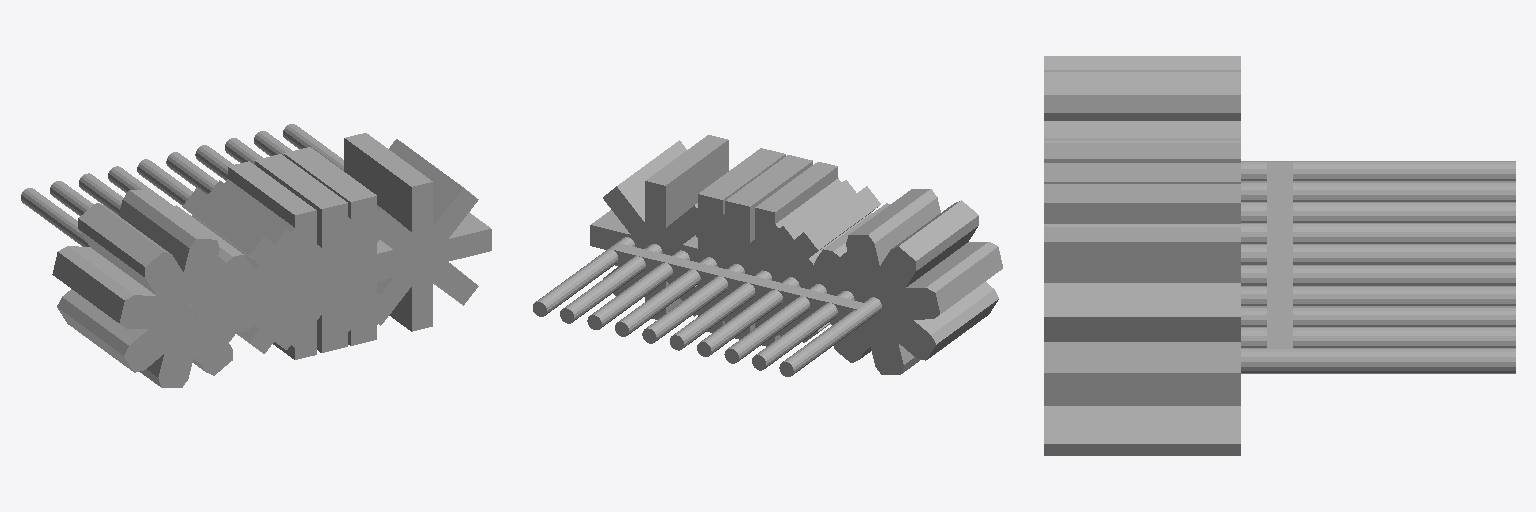
The robot description file, URDF, robot "gear_check":
<?xml version="1.0" encoding="utf-8"?>
<!-- =================================================================================== -->
<!-- |    This document was autogenerated by xacro from gear_check.xacro               | -->
<!-- |    EDITING THIS FILE BY HAND IS NOT RECOMMENDED                                 | -->
<!-- =================================================================================== -->
<robot name="gear_check">
  <material name="silver">
    <color rgba="0.700 0.700 0.700 1.000"/>
  </material>
  <gazebo>
    <plugin filename="libgazebo_ros_control.so" name="control"/>
  </gazebo>
  <gazebo reference="base_link">
    <material>Gazebo/Silver</material>
    <mu1>0.2</mu1>
    <mu2>0.2</mu2>
    <selfCollide>true</selfCollide>
    <gravity>true</gravity>
  </gazebo>
  <gazebo reference="geart_1">
    <material>Gazebo/Silver</material>
    <mu1>0.2</mu1>
    <mu2>0.2</mu2>
    <selfCollide>true</selfCollide>
  </gazebo>
  <gazebo reference="geartyok_1">
    <material>Gazebo/Silver</material>
    <mu1>0.2</mu1>
    <mu2>0.2</mu2>
    <selfCollide>true</selfCollide>
  </gazebo>
  <gazebo reference="geartyokk_1">
    <material>Gazebo/Silver</material>
    <mu1>0.2</mu1>
    <mu2>0.2</mu2>
    <selfCollide>true</selfCollide>
  </gazebo>
  <gazebo reference="gearnaname_1">
    <material>Gazebo/Silver</material>
    <mu1>0.2</mu1>
    <mu2>0.2</mu2>
    <selfCollide>true</selfCollide>
  </gazebo>
  <gazebo reference="gear_mainc_1">
    <material>Gazebo/Silver</material>
    <mu1>0.2</mu1>
    <mu2>0.2</mu2>
    <selfCollide>true</selfCollide>
  </gazebo>
  <gazebo reference="gear_maint_1">
    <material>Gazebo/Silver</material>
    <mu1>0.2</mu1>
    <mu2>0.2</mu2>
    <selfCollide>true</selfCollide>
  </gazebo>
  <link name="base_link">
    <inertial>
      <origin rpy="0 0 0" xyz="0.1694160000000001 6.013399387320873e-17 1.879187308537773e-18"/>
      <mass value="1.2099574875277086"/>
      <inertia ixx="0.012249" ixy="0.0" ixz="0.0" iyy="0.014034" iyz="0.0" izz="0.02622"/>
    </inertial>
    <visual>
      <origin rpy="0 0 0" xyz="0 0 0"/>
      <geometry>
        <mesh filename="package://gear_check_description/meshes/base_link.stl" scale="0.001 0.001 0.001"/>
      </geometry>
      <material name="silver"/>
    </visual>
    <collision>
      <origin rpy="0 0 0" xyz="0 0 0"/>
      <geometry>
        <mesh filename="package://gear_check_description/meshes/base_link.stl" scale="0.001 0.001 0.001"/>
      </geometry>
    </collision>
  </link>
  <link name="geart_1">
    <inertial>
      <origin rpy="0 0 0" xyz="4.1466829969749597e-14 0.07500000000000002 7.639765913131415e-17"/>
      <mass value="2.380949134081888"/>
      <inertia ixx="0.008464" ixy="0.0" ixz="0.0" iyy="0.007999" iyz="0.0" izz="0.008464"/>
    </inertial>
    <visual>
      <origin rpy="0 0 0" xyz="-0.150592 0.18 -0.0"/>
      <geometry>
        <mesh filename="package://gear_check_description/meshes/geart_1.stl" scale="0.001 0.001 0.001"/>
      </geometry>
      <material name="silver"/>
    </visual>
    <collision>
      <origin rpy="0 0 0" xyz="-0.150592 0.18 -0.0"/>
      <geometry>
        <mesh filename="package://gear_check_description/meshes/geart_1.stl" scale="0.001 0.001 0.001"/>
      </geometry>
    </collision>
  </link>
  <link name="geartyok_1">
    <inertial>
      <origin rpy="0 0 0" xyz="3.58046925441613e-14 0.07499999999999997 0.0"/>
      <mass value="2.754530739710083"/>
      <inertia ixx="0.009962" ixy="0.0" ixz="0.0" iyy="0.009594" iyz="0.0" izz="0.009962"/>
    </inertial>
    <visual>
      <origin rpy="0 0 0" xyz="-0.18824 0.18 -0.0"/>
      <geometry>
        <mesh filename="package://gear_check_description/meshes/geartyok_1.stl" scale="0.001 0.001 0.001"/>
      </geometry>
      <material name="silver"/>
    </visual>
    <collision>
      <origin rpy="0 0 0" xyz="-0.18824 0.18 -0.0"/>
      <geometry>
        <mesh filename="package://gear_check_description/meshes/geartyok_1.stl" scale="0.001 0.001 0.001"/>
      </geometry>
    </collision>
  </link>
  <link name="geartyokk_1">
    <inertial>
      <origin rpy="0 0 0" xyz="5.162537064506978e-15 0.07500000000000001 7.528019646738304e-17"/>
      <mass value="2.416292051434772"/>
      <inertia ixx="0.008531" ixy="-0.0" ixz="0.0" iyy="0.008001" iyz="0.0" izz="0.008531"/>
    </inertial>
    <visual>
      <origin rpy="0 0 0" xyz="-0.301184 0.18 -0.0"/>
      <geometry>
        <mesh filename="package://gear_check_description/meshes/geartyokk_1.stl" scale="0.001 0.001 0.001"/>
      </geometry>
      <material name="silver"/>
    </visual>
    <collision>
      <origin rpy="0 0 0" xyz="-0.301184 0.18 -0.0"/>
      <geometry>
        <mesh filename="package://gear_check_description/meshes/geartyokk_1.stl" scale="0.001 0.001 0.001"/>
      </geometry>
    </collision>
  </link>
  <link name="gearnaname_1">
    <inertial>
      <origin rpy="0 0 0" xyz="7.493221873409896e-05 0.075 4.462749146274174e-05"/>
      <mass value="3.022850628302408"/>
      <inertia ixx="0.011052" ixy="0.0" ixz="-2.7e-05" iyy="0.010793" iyz="-0.0" izz="0.011077"/>
    </inertial>
    <visual>
      <origin rpy="0 0 0" xyz="-0.0 0.18 -0.0"/>
      <geometry>
        <mesh filename="package://gear_check_description/meshes/gearnaname_1.stl" scale="0.001 0.001 0.001"/>
      </geometry>
      <material name="silver"/>
    </visual>
    <collision>
      <origin rpy="0 0 0" xyz="-0.0 0.18 -0.0"/>
      <geometry>
        <mesh filename="package://gear_check_description/meshes/gearnaname_1.stl" scale="0.001 0.001 0.001"/>
      </geometry>
    </collision>
  </link>
  <link name="gear_mainc_1">
    <inertial>
      <origin rpy="0 0 0" xyz="-1.3877787807814457e-17 0.07499999999999997 3.4007440022514314e-17"/>
      <mass value="1.6046395162425733"/>
      <inertia ixx="0.005485" ixy="-0.0" ixz="-0.0" iyy="0.004952" iyz="-0.0" izz="0.005485"/>
    </inertial>
    <visual>
      <origin rpy="0 0 0" xyz="-0.075296 0.18 -0.0"/>
      <geometry>
        <mesh filename="package://gear_check_description/meshes/gear_mainc_1.stl" scale="0.001 0.001 0.001"/>
      </geometry>
      <material name="silver"/>
    </visual>
    <collision>
      <origin rpy="0 0 0" xyz="-0.075296 0.18 -0.0"/>
      <geometry>
        <mesh filename="package://gear_check_description/meshes/gear_mainc_1.stl" scale="0.001 0.001 0.001"/>
      </geometry>
    </collision>
  </link>
  <link name="gear_maint_1">
    <inertial>
      <origin rpy="0 0 0" xyz="6.147859998861804e-14 0.075 1.1335813340838095e-17"/>
      <mass value="1.604639516242575"/>
      <inertia ixx="0.005485" ixy="0.0" ixz="0.0" iyy="0.004952" iyz="-0.0" izz="0.005485"/>
    </inertial>
    <visual>
      <origin rpy="0 0 0" xyz="-0.225888 0.18 -0.0"/>
      <geometry>
        <mesh filename="package://gear_check_description/meshes/gear_maint_1.stl" scale="0.001 0.001 0.001"/>
      </geometry>
      <material name="silver"/>
    </visual>
    <collision>
      <origin rpy="0 0 0" xyz="-0.225888 0.18 -0.0"/>
      <geometry>
        <mesh filename="package://gear_check_description/meshes/gear_maint_1.stl" scale="0.001 0.001 0.001"/>
      </geometry>
    </collision>
  </link>
  <joint name="2" type="fixed">
    <origin rpy="0 0 0" xyz="0.150592 -0.18 0.0"/>
    <parent link="base_link"/>
    <child link="geart_1"/>
  </joint>
  <joint name="3" type="fixed">
    <origin rpy="0 0 0" xyz="0.18824 -0.18 0.0"/>
    <parent link="base_link"/>
    <child link="geartyok_1"/>
  </joint>
  <joint name="4" type="fixed">
    <origin rpy="0 0 0" xyz="0.301184 -0.18 0.0"/>
    <parent link="base_link"/>
    <child link="geartyokk_1"/>
  </joint>
  <joint name="1" type="fixed">
    <origin rpy="0 0 0" xyz="0.0 -0.18 0.0"/>
    <parent link="base_link"/>
    <child link="gearnaname_1"/>
  </joint>
  <joint name="5" type="fixed">
    <origin rpy="0 0 0" xyz="0.075296 -0.18 0.0"/>
    <parent link="base_link"/>
    <child link="gear_mainc_1"/>
  </joint>
  <joint name="6" type="fixed">
    <origin rpy="0 0 0" xyz="0.225888 -0.18 0.0"/>
    <parent link="base_link"/>
    <child link="gear_maint_1"/>
  </joint>
</robot>

--- What the picture shows (computed from the rendered views, not written in the file) ---
The picture shows the robot from 3 angles, left to right: view 1: azimuth 30°, elevation 25°; view 2: azimuth 150°, elevation 25°; view 3: azimuth 270°, elevation 25°; orthographic projection.
Model gear_check with 7 links and 6 joints (6 fixed), rooted at base_link, posed every joint at zero.
Visible links, largest first — view 1: gearnaname_1, geartyokk_1, geart_1, base_link, geartyok_1, gear_maint_1, gear_mainc_1; view 2: base_link, gearnaname_1, geartyokk_1, geart_1, geartyok_1, gear_mainc_1, gear_maint_1; view 3: base_link, geartyokk_1, gearnaname_1, gear_maint_1, geart_1, geartyok_1, gear_mainc_1.
Boxes of the visible links, x1,y1,x2,y2 form: gearnaname_1: (52,190,257,387); geartyokk_1: (344,133,491,331); geart_1: (182,161,374,359); base_link: (21,124,458,321); geartyok_1: (224,154,403,352); gear_maint_1: (284,147,431,345); gear_mainc_1: (190,180,303,367); base_link: (533,237,881,376); gearnaname_1: (814,189,1002,374); geartyokk_1: (590,135,728,319); geart_1: (700,162,880,346); geartyok_1: (673,155,841,339); gear_mainc_1: (773,180,873,350); gear_maint_1: (646,148,785,332); base_link: (1241,161,1515,373); geartyokk_1: (1044,224,1240,455); gearnaname_1: (1044,56,1240,140); gear_maint_1: (1044,184,1240,223); geart_1: (1044,141,1240,162); geartyok_1: (1044,163,1240,183); gear_mainc_1: (1044,121,1240,137).
Size in the robot's own frame: 0.4807 by 0.36 by 0.18 metres.
Meshes: 7 distinct files referenced, 7 mesh visuals loaded (7 binary STL).
